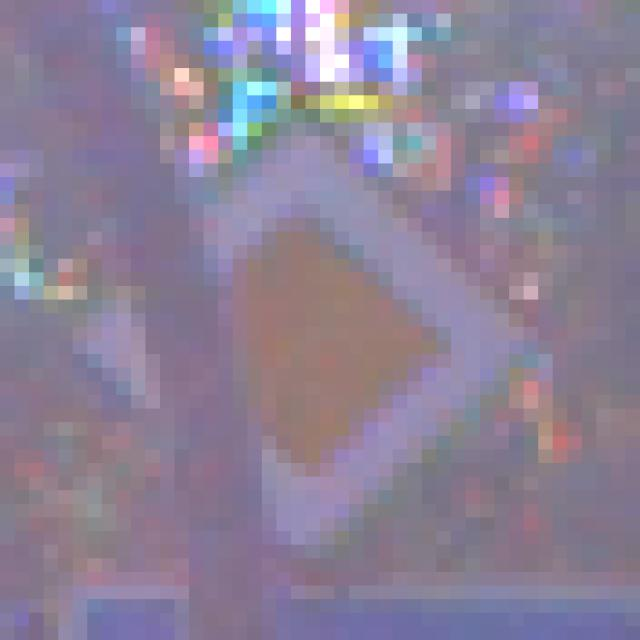Main Road: (74, 83, 568, 573)
